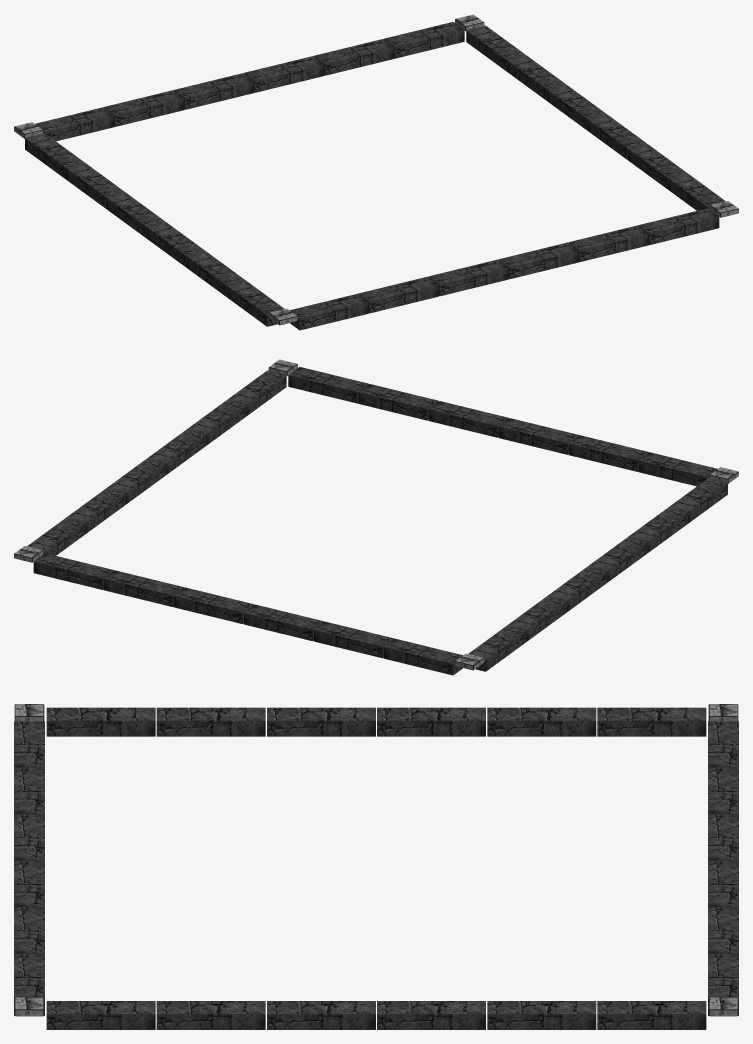
The model's file is frame_6.glb.
3 renders of one model, top to bottom at view 1: azimuth 30°, elevation 25°; view 2: azimuth 150°, elevation 25°; view 3: azimuth 270°, elevation 25°, orthographic. The views are drawn at different scales.
Parts seen in each view (by area): view 1: Border block.001, Border block.015, Border block.017, Border block.009, Border block.011, Border block.019, Border block.007, Border block.021, Border block.023, Border block.003, Border block.005, Border block.013 (+12 smaller); view 2: Border block.013, Border block.003, Border block.005, Border block.007, Border block.021, Border block.023, Border block.009, Border block.011, Border block.019, Border block.015, Border block.017, Border block.001 (+12 smaller); view 3: Border block, Border block.002, Border block.008, Border block.010, Border block.004, Border block.006, Border block.012, Border block.014, Border block.020, Border block.022, Border block.016, Border block.018 (+16 smaller).
Part boxes in pixels (box(x1,y1,x2,y2)): Border block.001: box(290, 293, 368, 330); Border block.015: box(103, 90, 184, 126); Border block.017: box(173, 73, 254, 109); Border block.009: box(568, 225, 649, 261); Border block.011: box(638, 208, 719, 244); Border block.019: box(244, 56, 324, 92); Border block.007: box(498, 242, 579, 278); Border block.021: box(314, 39, 394, 75); Border block.023: box(384, 22, 464, 58); Border block.003: box(358, 276, 438, 313); Border block.005: box(428, 259, 508, 296); Border block.013: box(35, 107, 114, 141); Border block.013: box(384, 638, 462, 675); Border block.003: box(568, 435, 649, 471); Border block.005: box(498, 418, 579, 454); Border block.007: box(428, 401, 508, 437); Border block.021: box(103, 570, 184, 606); Border block.023: box(33, 553, 114, 589); Border block.009: box(358, 384, 438, 420); Border block.011: box(288, 367, 368, 403); Border block.019: box(173, 587, 254, 623); Border block.015: box(314, 621, 394, 658); Border block.017: box(244, 604, 324, 641); Border block.001: box(638, 452, 717, 486); Border block: box(46, 707, 155, 736); Border block.002: box(156, 707, 265, 736); Border block.008: box(487, 707, 596, 736); Border block.010: box(597, 707, 706, 736); Border block.004: box(267, 707, 375, 736); Border block.006: box(377, 707, 485, 736); Border block.012: box(46, 1001, 155, 1029); Border block.014: box(156, 1001, 265, 1029); Border block.020: box(487, 1001, 596, 1029); Border block.022: box(597, 1001, 706, 1029); Border block.016: box(267, 1001, 375, 1029); Border block.018: box(377, 1001, 485, 1029).
Bounding box in the file's own units: 6.58 × 0.2 × 6.58.
Materials: 2 (1 with a texture image).
